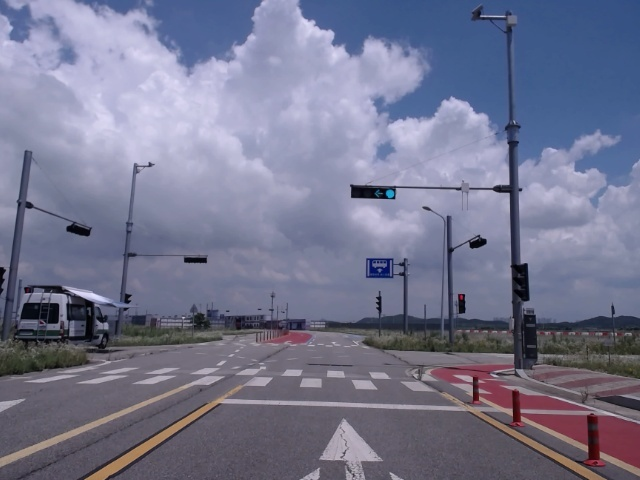all_green_4: (350, 184, 397, 202)
